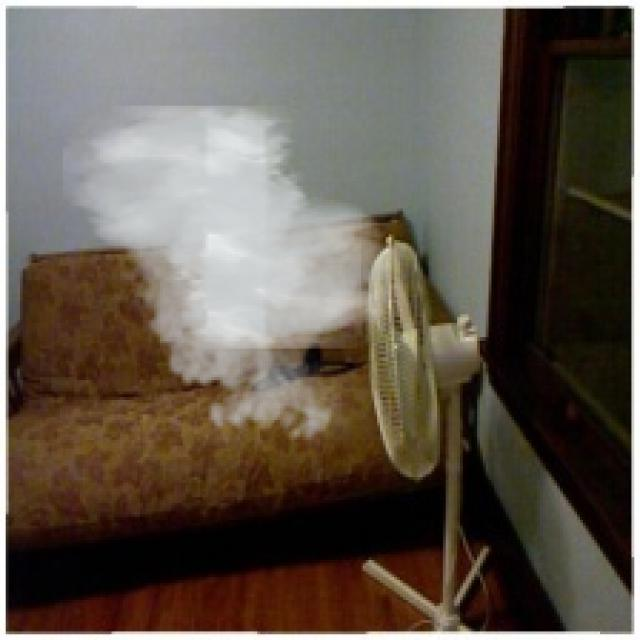smoke: (63, 106, 408, 451)
